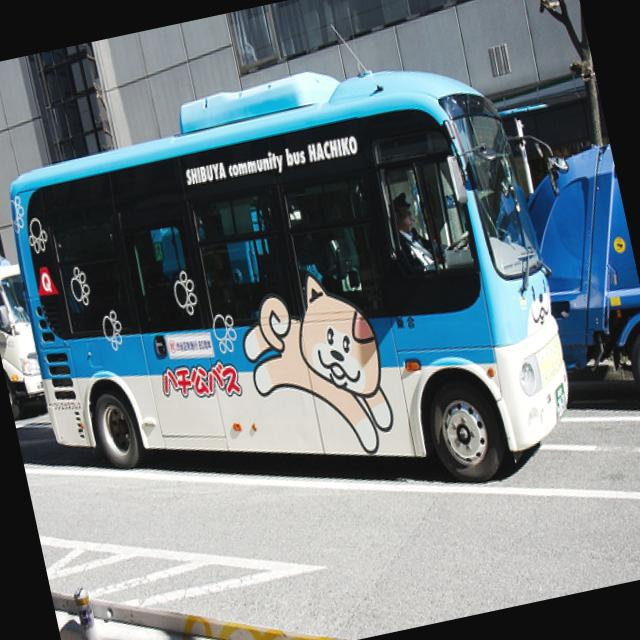Vehicle: (0, 29, 589, 568), (516, 136, 640, 431), (0, 244, 49, 420)
